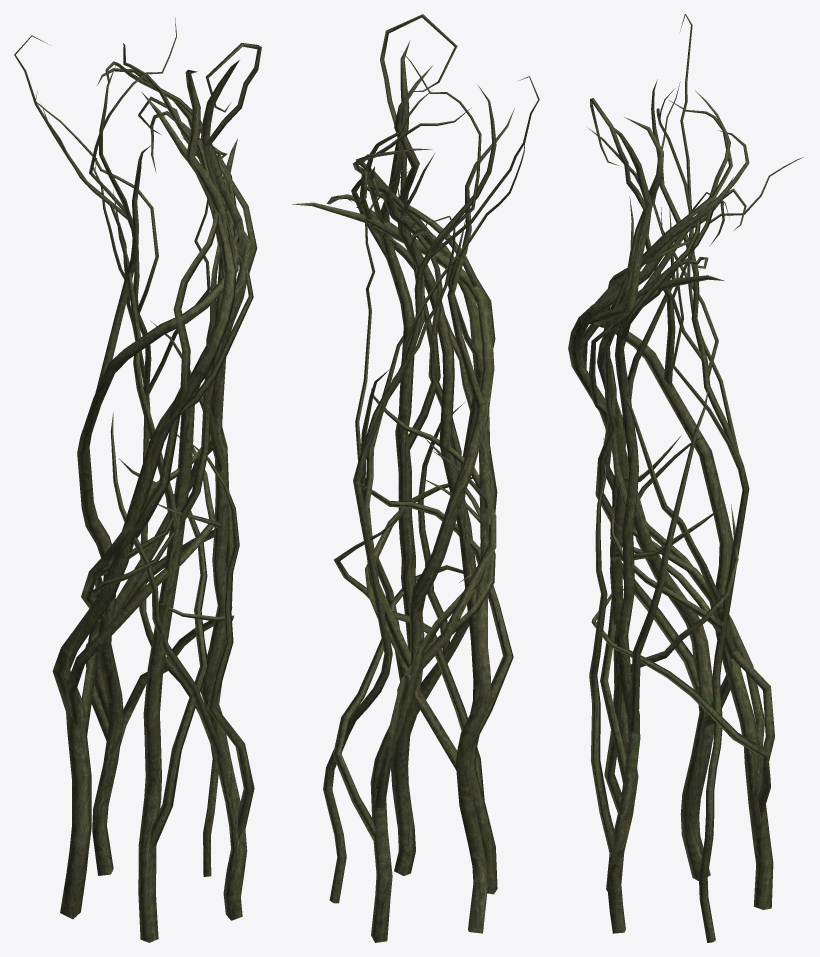
The model's file is Tree_07_1_Liana_L2.fbx.
3 renders of one model, left to right at view 1: azimuth 30°, elevation 25°; view 2: azimuth 150°, elevation 25°; view 3: azimuth 270°, elevation 25°, orthographic. The views are drawn at different scales.
Parts seen in each view (by area): view 1: polySurface66; view 2: polySurface66; view 3: polySurface66.
Boxes of the visible parts, bbox=[...] form: polySurface66: bbox=[14, 17, 261, 942]; polySurface66: bbox=[292, 14, 539, 942]; polySurface66: bbox=[568, 14, 803, 942].
Bounding box in the file's own units: 711 × 2523 × 645.
